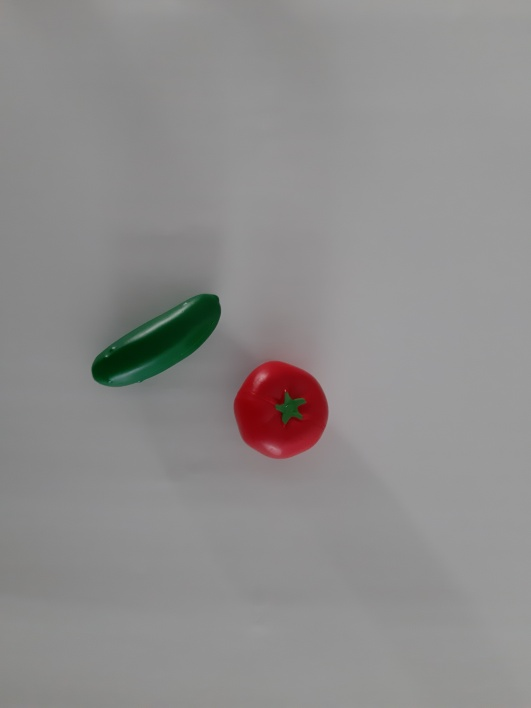cucumber: (84, 282, 231, 397)
tomato: (230, 354, 337, 466)
